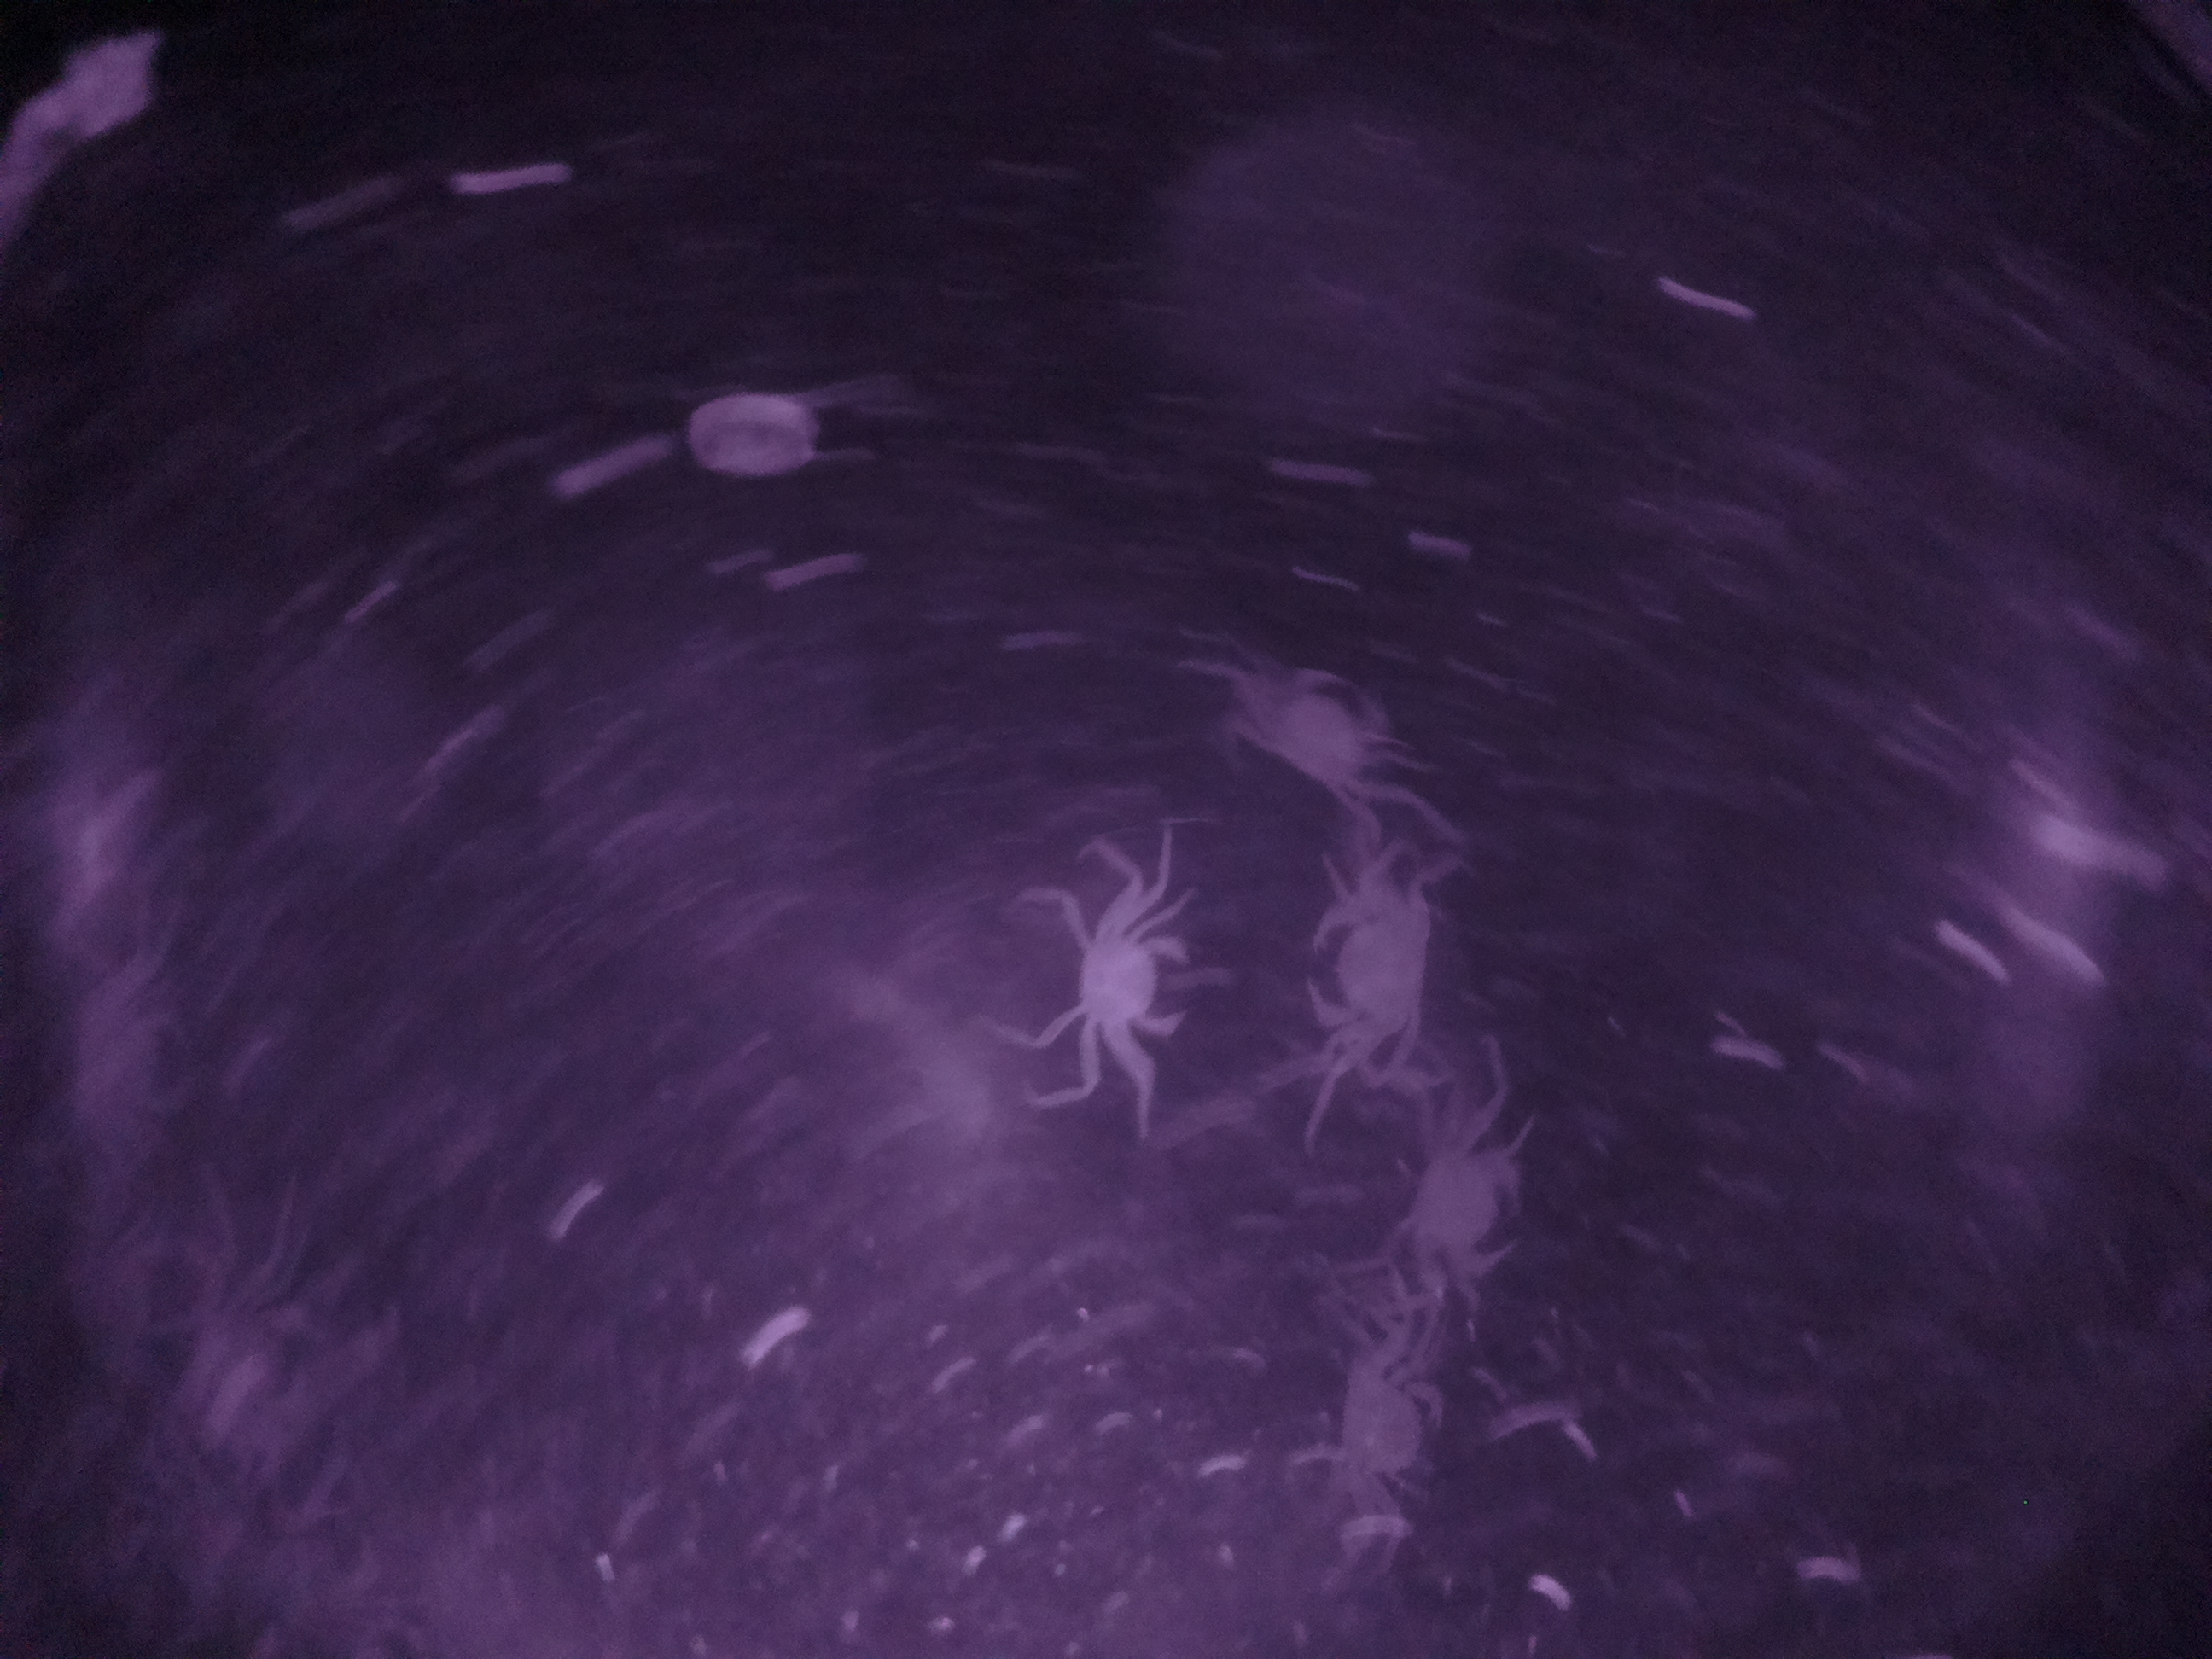Crab: (1271, 859, 1460, 1077), (1362, 1105, 1554, 1293), (1021, 896, 1214, 1073)
